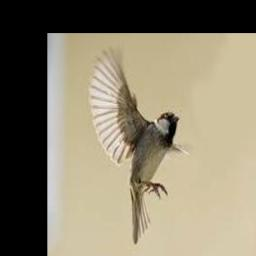Sparrow: (90, 44, 188, 243)
